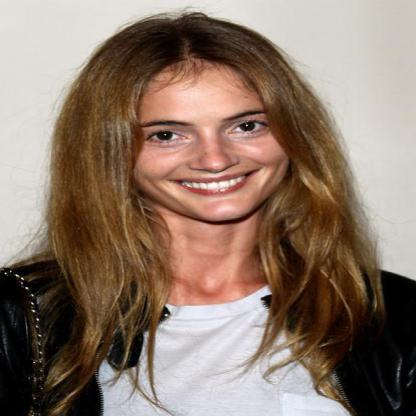long-hair: (27, 224, 368, 278)
